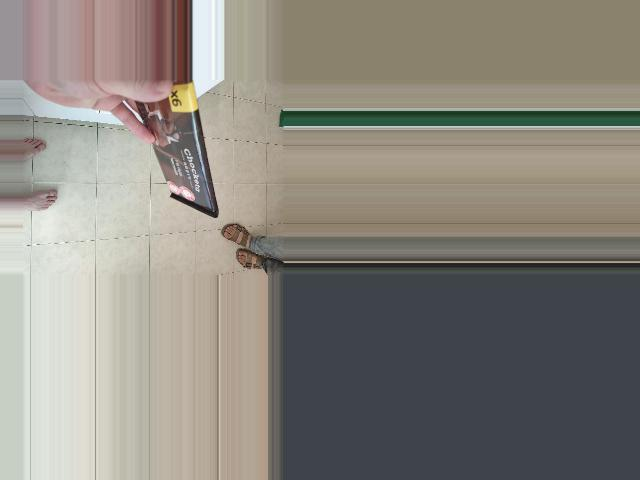chocolate: (88, 135, 230, 249)
